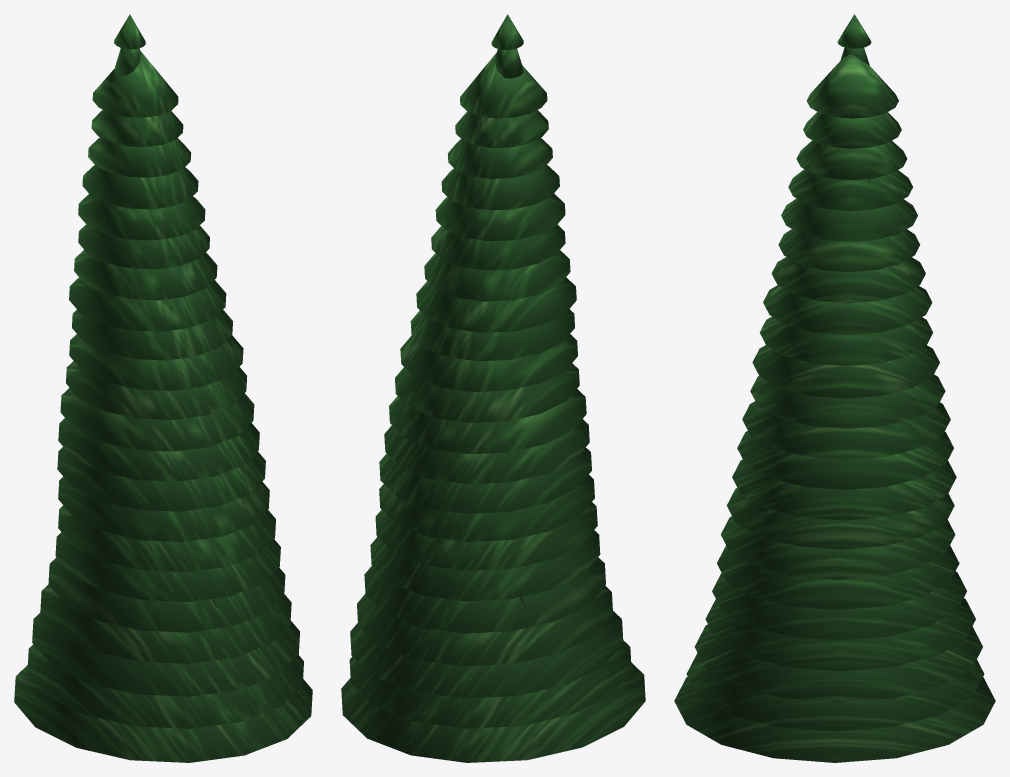
The model's file is Conifer_Tall_Far.glb.
3 renders of one model, left to right at view 1: azimuth 30°, elevation 25°; view 2: azimuth 150°, elevation 25°; view 3: azimuth 270°, elevation 25°, orthographic. The views are drawn at different scales.
Visible parts, largest first — view 1: Conifer_Tall_Far__Needles; view 2: Conifer_Tall_Far__Needles; view 3: Conifer_Tall_Far__Needles.
Boxes of the visible parts, x1,y1,x2,y2 form: Conifer_Tall_Far__Needles: (14, 14, 312, 762); Conifer_Tall_Far__Needles: (341, 14, 645, 762); Conifer_Tall_Far__Needles: (674, 14, 995, 762).
Bounding box in the file's own units: 26.94 × 68.45 × 29.53.
1 material, 1 textured.
